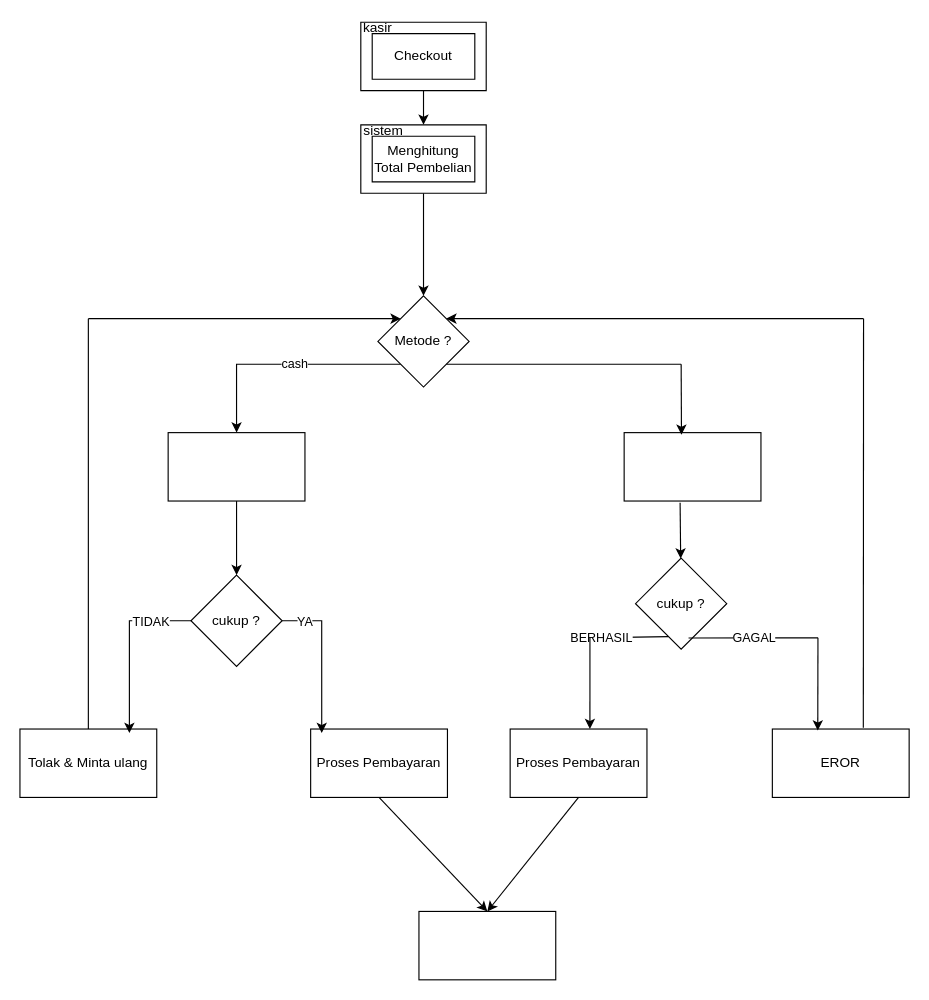
The diagram is 929 pixels wide and 1000 high, and some of its shapes have lost their labels. The shapes that lost their labels are listed below. From the top down, each one's centre as x and y in pixels, then its label:
point (236, 466): Masuk Nominal Uang
point (692, 466): Kasir Memasukkan Nominal Uang
point (487, 945): Cetak struk
